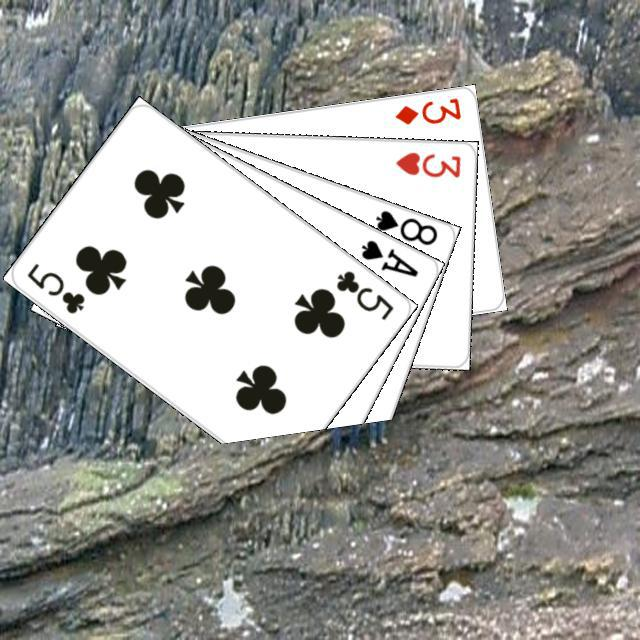3d: (390, 93, 463, 126)
3h: (390, 147, 463, 179)
5c: (21, 258, 87, 316), (331, 265, 396, 322)
8s: (370, 205, 440, 247)
As: (356, 234, 420, 279)
